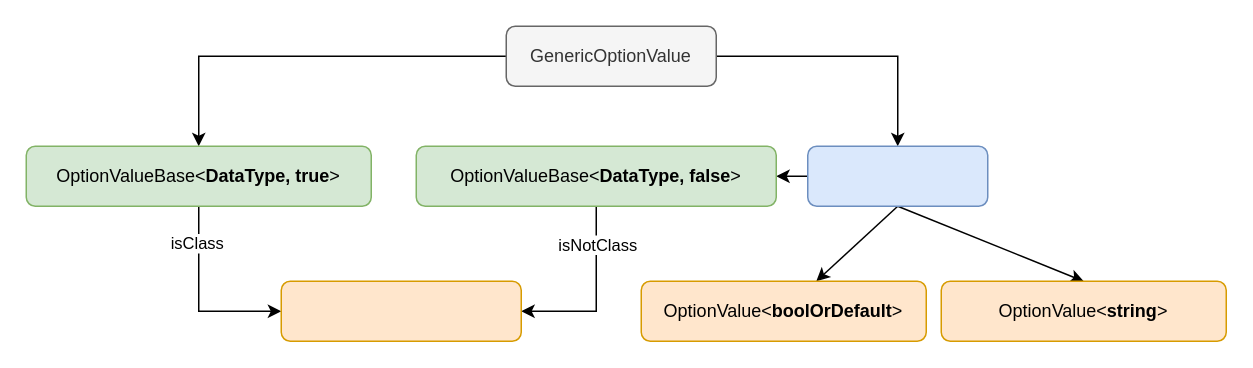
This 1253x368 diagram has some shape labels left out. Each missing label, with the centre of its shape:
"OptionValue< DataType >" belongs at point (400, 310).
"OptionValueCopy" belongs at point (897, 175).
